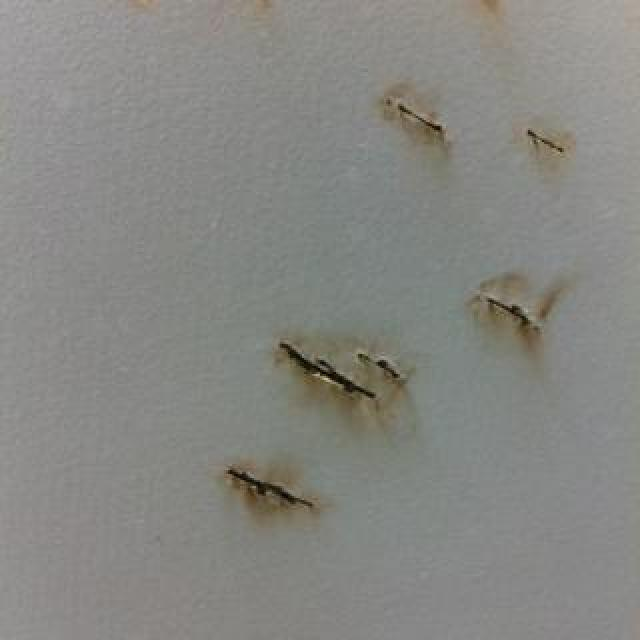crack: (275, 341, 373, 399), (217, 466, 315, 508), (479, 295, 537, 327), (393, 100, 443, 136), (354, 353, 406, 383), (519, 127, 565, 157)
